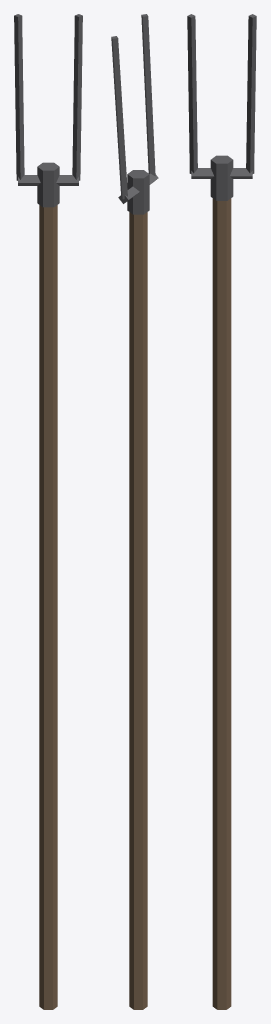
The model's file is pitchfork.glb.
3 renders of one model, left to right at view 1: azimuth 90°, elevation 25°; view 2: azimuth 150°, elevation 25°; view 3: azimuth 270°, elevation 25°, orthographic.
Visible parts, largest first — view 1: pitchfork; view 2: pitchfork; view 3: pitchfork.
Part boxes in pixels (x1,y1,x2,y2): pitchfork: (14, 14, 82, 1009); pitchfork: (111, 14, 158, 1009); pitchfork: (187, 14, 256, 1009).
Size of the model in its own units: 0.047 by 2.15 by 0.136.
